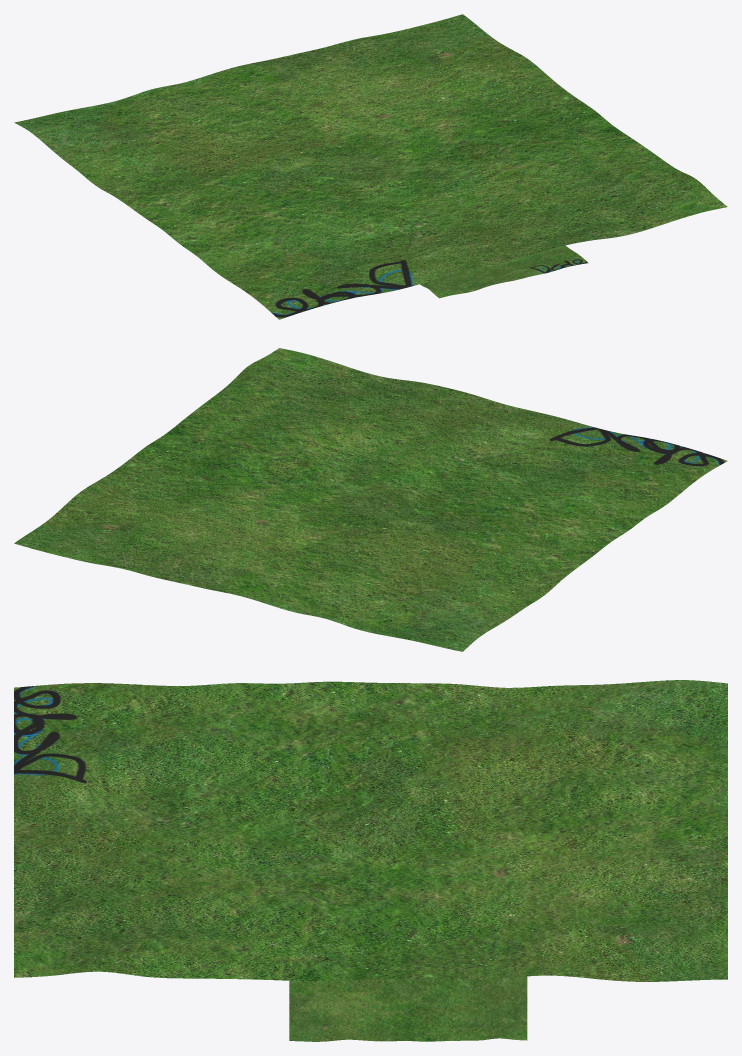
Rendered from grass.gltf.
The picture shows the model from 3 angles, top to bottom: view 1: azimuth 30°, elevation 25°; view 2: azimuth 150°, elevation 25°; view 3: azimuth 270°, elevation 25°; orthographic projection. The views are drawn at different scales.
Visible parts, largest first — view 1: 3, 4; view 2: 3; view 3: 3, 1.
Part boxes in pixels (left/top/right/bottom): 3: left=14, top=14, right=727, bottom=319; 4: left=420, top=245, right=588, bottom=298; 3: left=14, top=348, right=727, bottom=651; 3: left=14, top=680, right=727, bottom=981; 1: left=289, top=976, right=527, bottom=1041.
Size of the model in its own units: 8.76 by 0.7403 by 8.51.
Materials: 2 (2 with a texture image).
